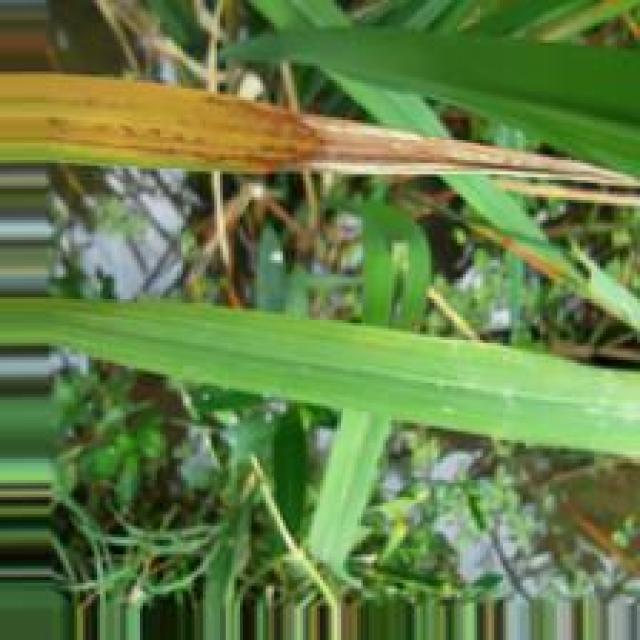Leaf_Scald: (3, 72, 569, 176)
